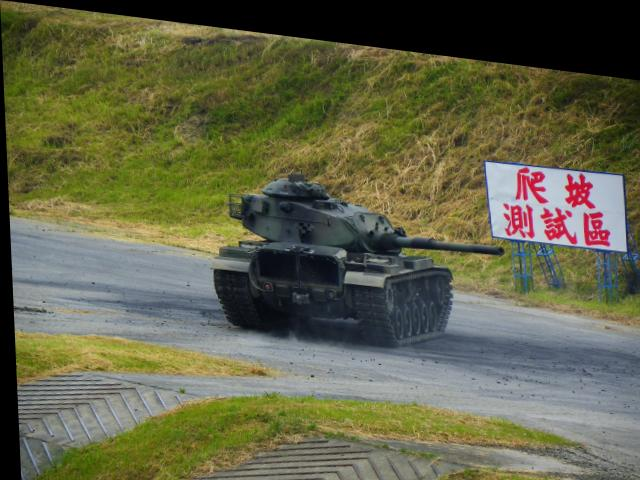tank: (200, 154, 447, 342)
